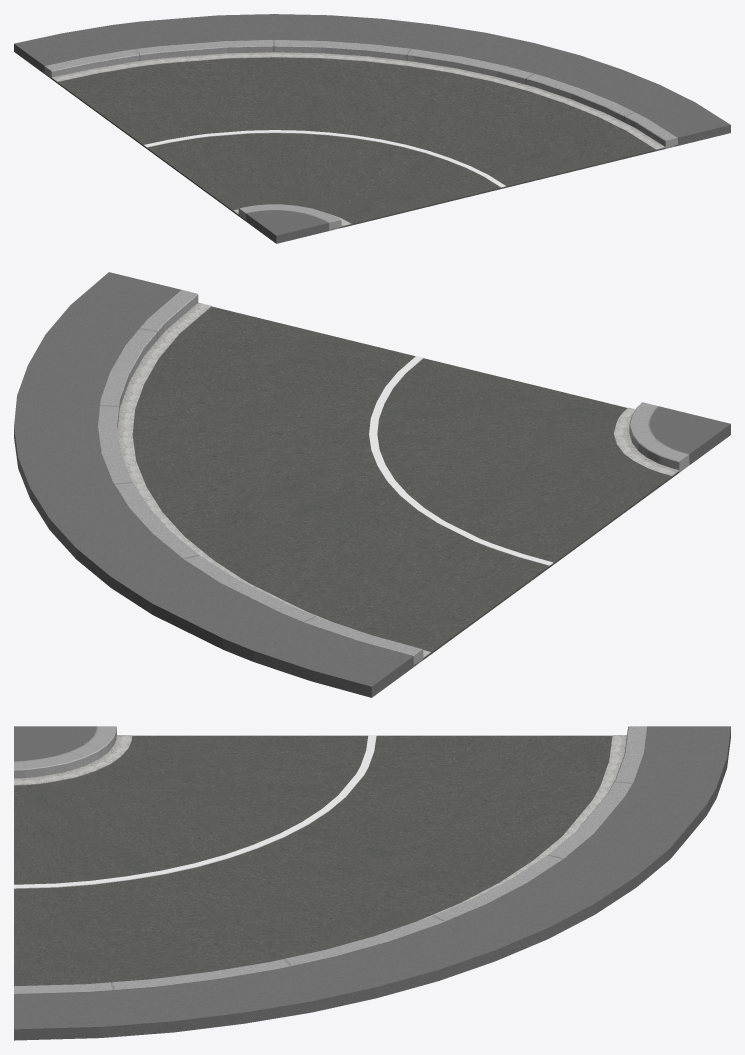
The model's file is routeCourbe2VoiesAvecTrottoirs90Deg.obj.
3 renders of one model, top to bottom at view 1: azimuth 30°, elevation 25°; view 2: azimuth 150°, elevation 25°; view 3: azimuth 270°, elevation 25°, orthographic. The views are drawn at different scales.
Visible parts, largest first — view 1: routeCourbe2VoiesAvecTrottoirs90degrees_Plane.75deg_routeCourbe, routeCourbe2VoiesAvecTrottoirs90degrees_Plane.15deg; view 2: routeCourbe2VoiesAvecTrottoirs90degrees_Plane.75deg_routeCourbe, routeCourbe2VoiesAvecTrottoirs90degrees_Plane.15deg; view 3: routeCourbe2VoiesAvecTrottoirs90degrees_Plane.75deg_routeCourbe, routeCourbe2VoiesAvecTrottoirs90degrees_Plane.15deg.
Part boxes in pixels (left/top/right/bottom): routeCourbe2VoiesAvecTrottoirs90degrees_Plane.75deg_routeCourbe: left=140, top=14, right=730, bottom=243; routeCourbe2VoiesAvecTrottoirs90degrees_Plane.15deg: left=14, top=21, right=276, bottom=243; routeCourbe2VoiesAvecTrottoirs90degrees_Plane.75deg_routeCourbe: left=14, top=272, right=730, bottom=649; routeCourbe2VoiesAvecTrottoirs90degrees_Plane.15deg: left=223, top=424, right=730, bottom=697; routeCourbe2VoiesAvecTrottoirs90degrees_Plane.75deg_routeCourbe: left=14, top=726, right=706, bottom=1040; routeCourbe2VoiesAvecTrottoirs90degrees_Plane.15deg: left=15, top=726, right=730, bottom=815.
Bounding box in the file's own units: 1045 × 18 × 1045.
